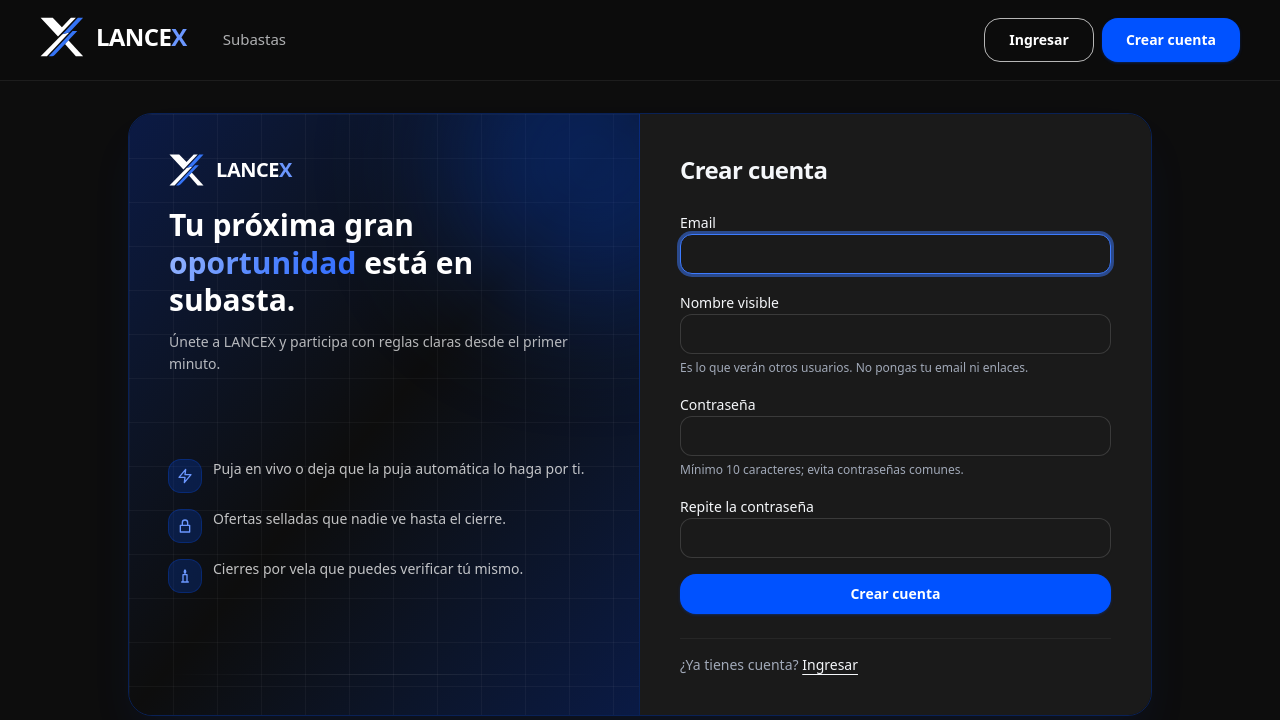
Scenario: RegisterPage › email ya registrado se marca en el campo email
Step 1. Type "ana@demo.lancex.test" into the field labelled "Email" → (896, 254), box [680,234,1111,274]
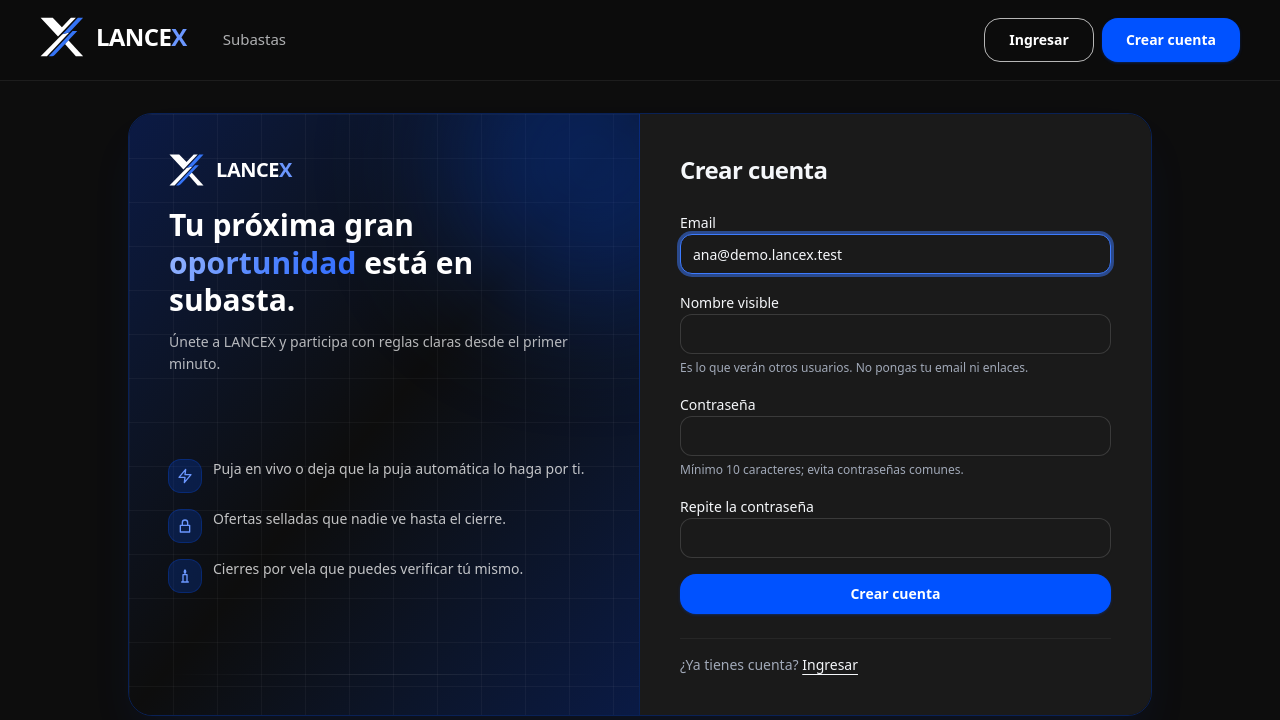
Step 2. Type "Ana" into the field labelled "Nombre visible" → (896, 334), box [680,314,1111,354]
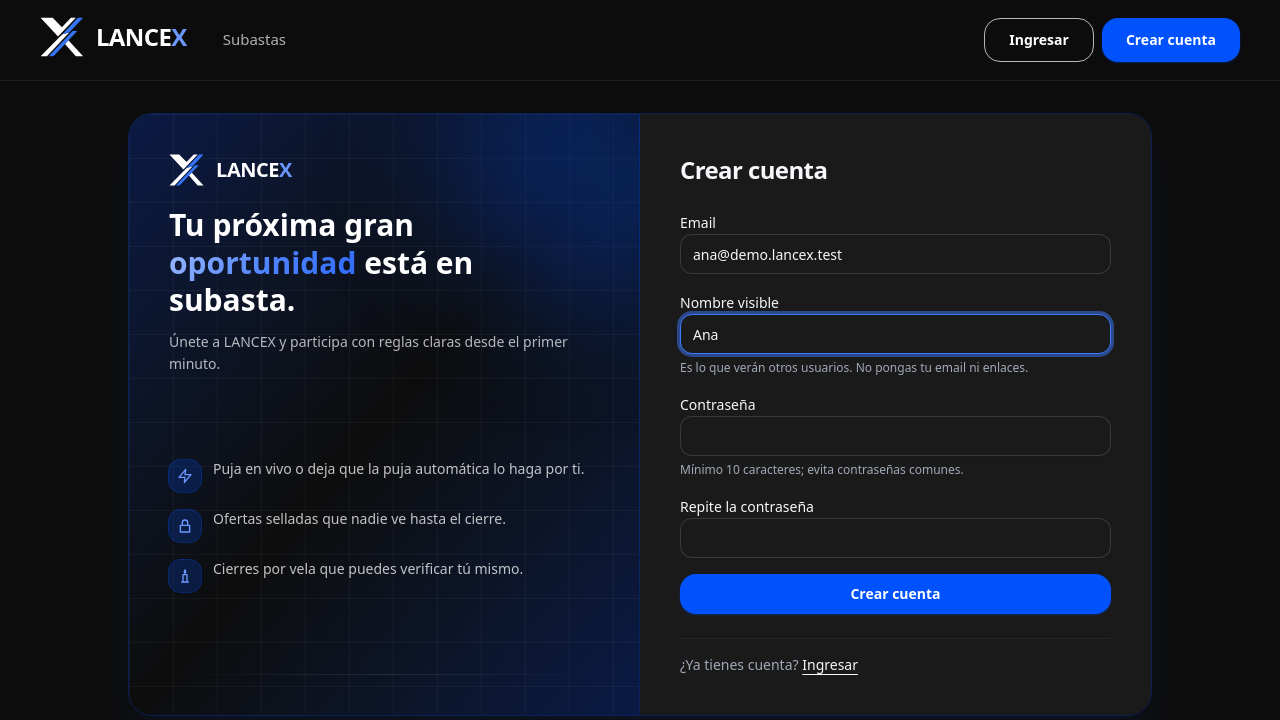
Step 3. Type "UnaClaveLarga2026" into the password field labelled "Contraseña" → (896, 436), box [680,416,1111,456]
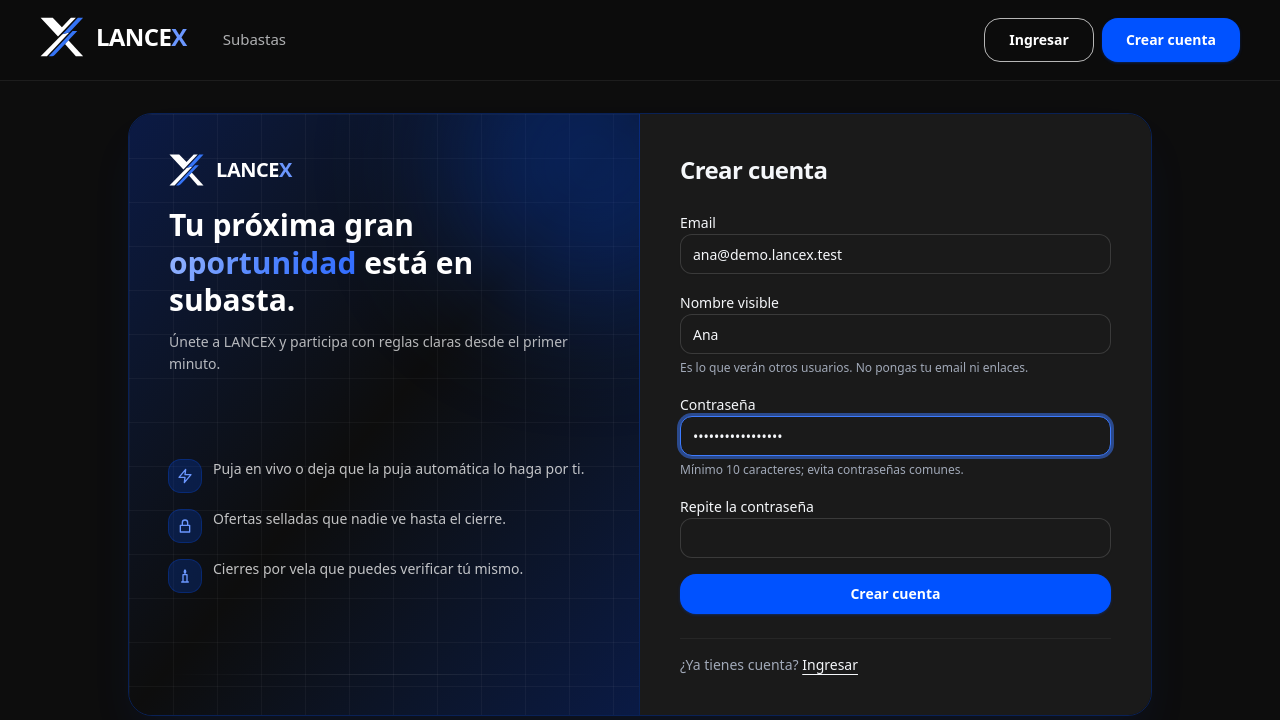
Step 4. Type "UnaClaveLarga2026" into the password field labelled "Repite la contraseña" → (896, 538), box [680,518,1111,558]
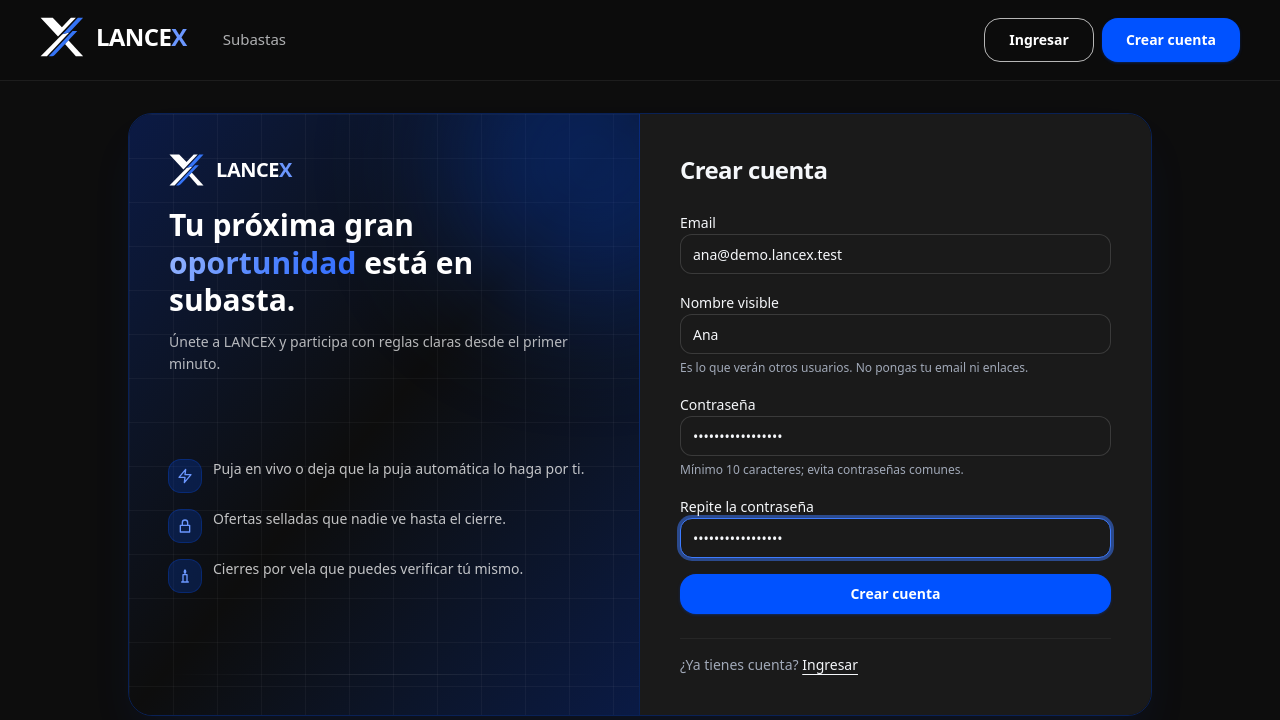
Step 5. Click the button "Crear cuenta" → (896, 594), box [680,574,1111,614]
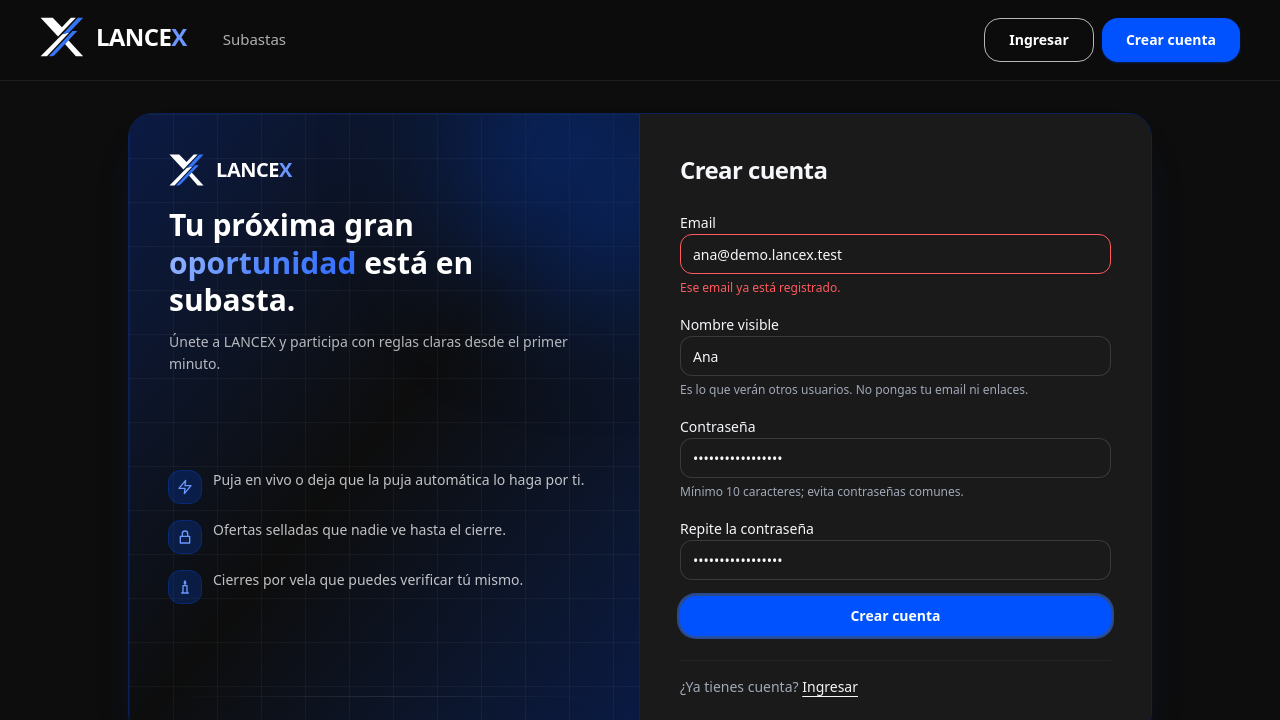
Expected: the text "Ese email ya está registrado." is shown, [680,279,840,296]
